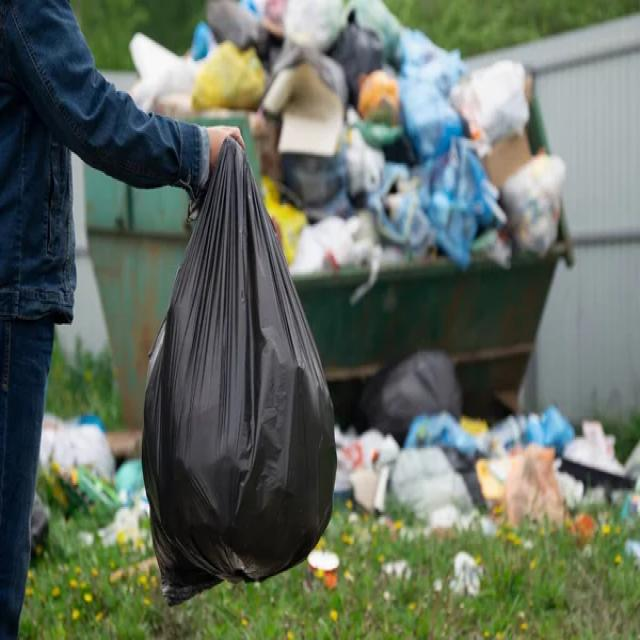garbage: (276, 13, 573, 254), (387, 390, 635, 575)
